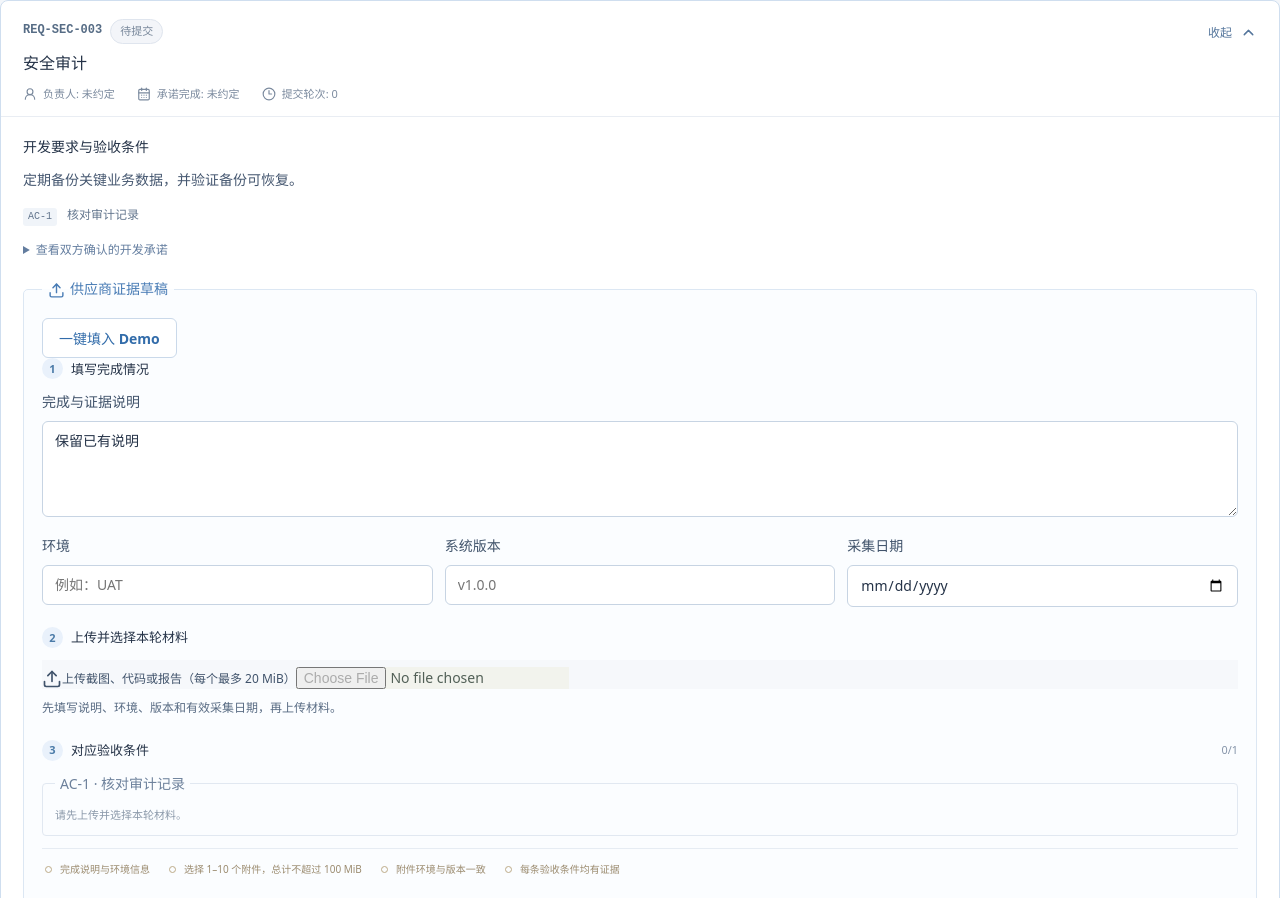
retains authored input and offers retry when the audit preview fails
Click the button "一键填入 Demo".
click(109, 338)  # box [42, 318, 177, 358]
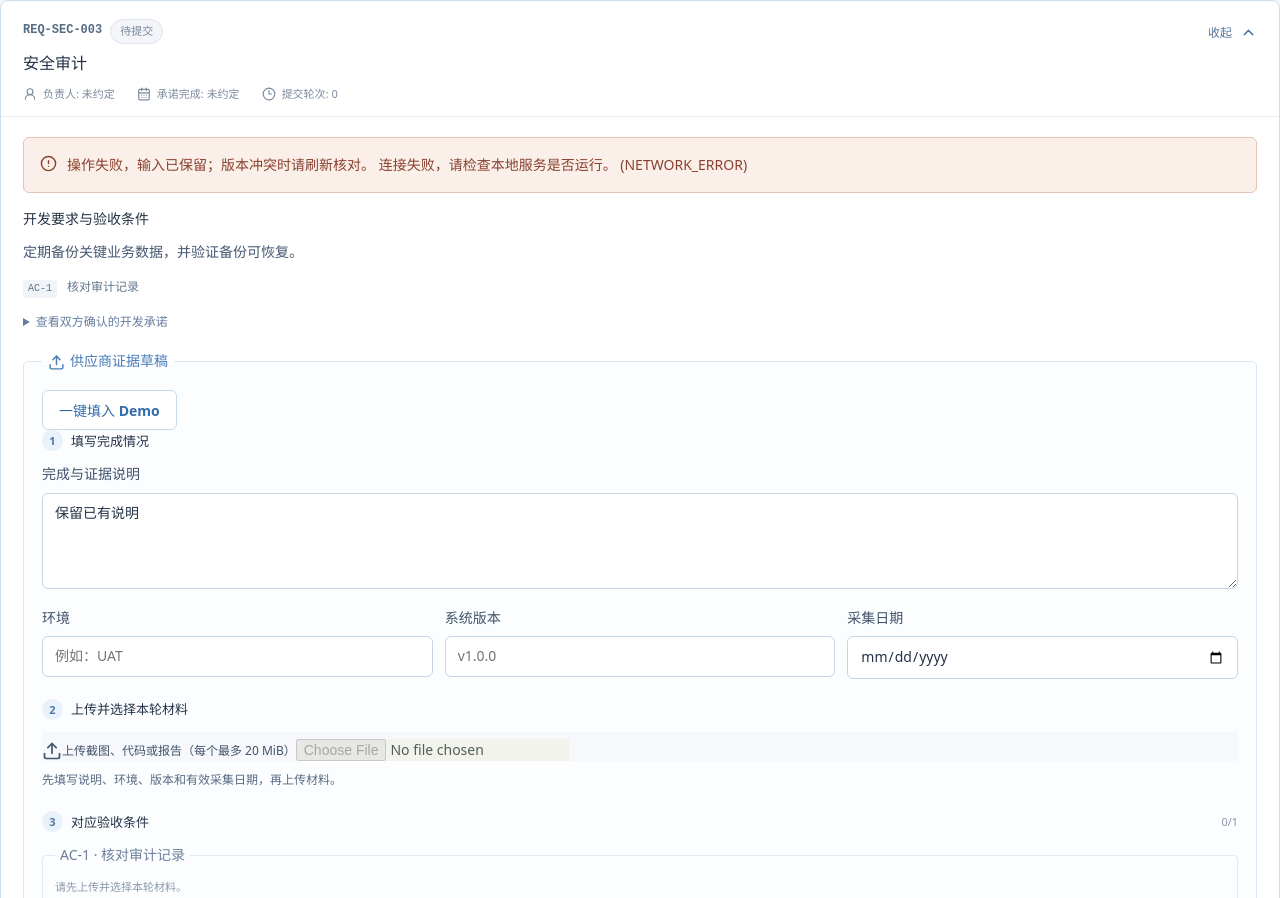
Expected: the text box labelled "完成与证据说明" holds "保留已有说明", [42, 493, 1238, 589]
Expected: the text "操作失败，输入已保留；版本冲突时请刷新核对。 连接失败，请检查本地服务是否运行。 (NETWORK_ERROR)" is shown, [67, 152, 747, 178]
